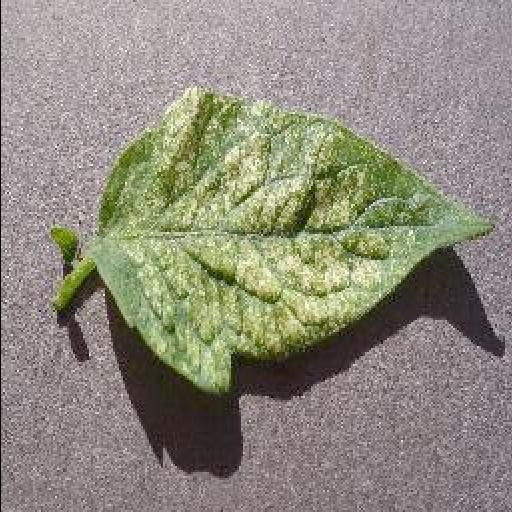disease_tomato: (94, 92, 498, 394)
